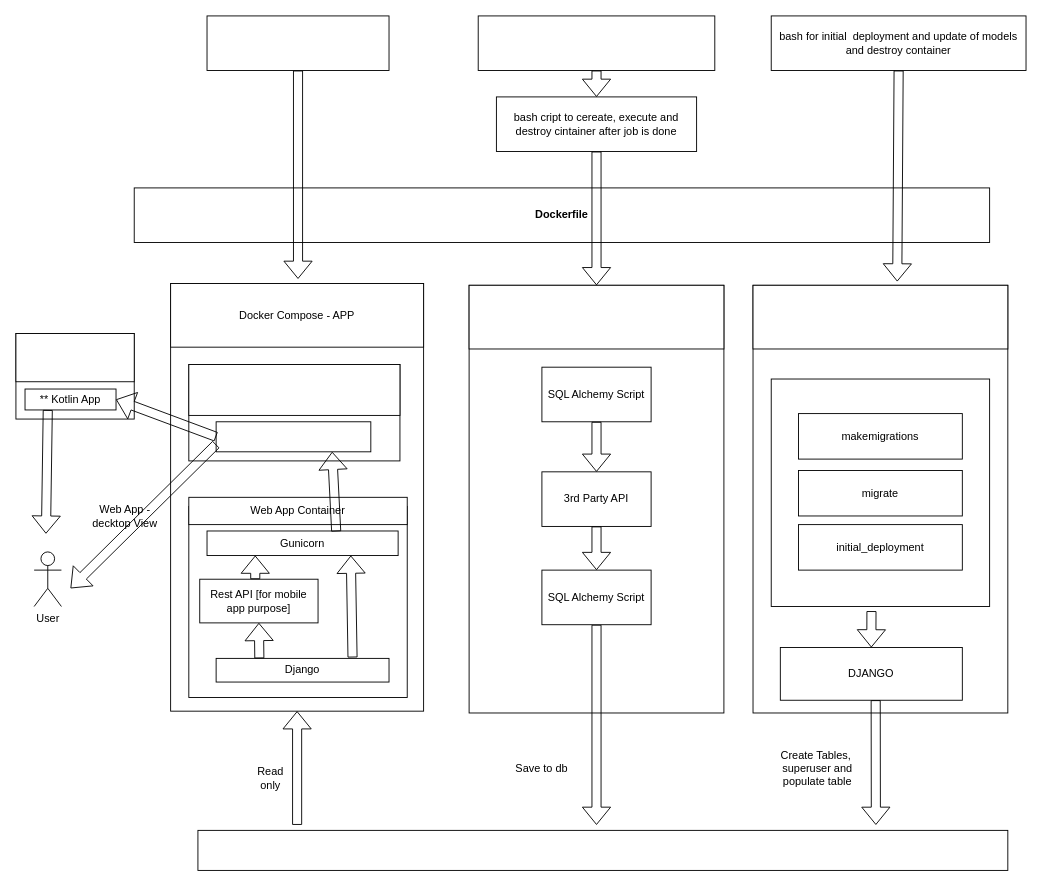
Some shapes in this 1042 by 886 pixel diagram are drawn without their labels. Each missing label, with the centre of its shape:
"** Mobile app" goes at point (74, 357).
"Cron every 30 min" goes at point (596, 43).
"docker compose for App and nginX code update" goes at point (297, 43).
"Docker Contaier - Models" goes at point (880, 316).
"Docker Contaier - Standalone" goes at point (596, 316).
"ngineX" goes at point (293, 436).
"nginX Container" goes at point (294, 389).
"Postgres DB" goes at point (602, 849).
